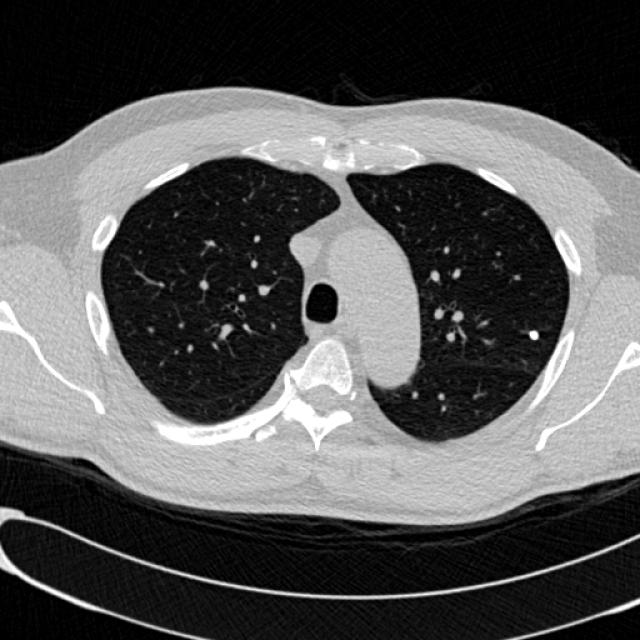nodule: (519, 320, 546, 348)
